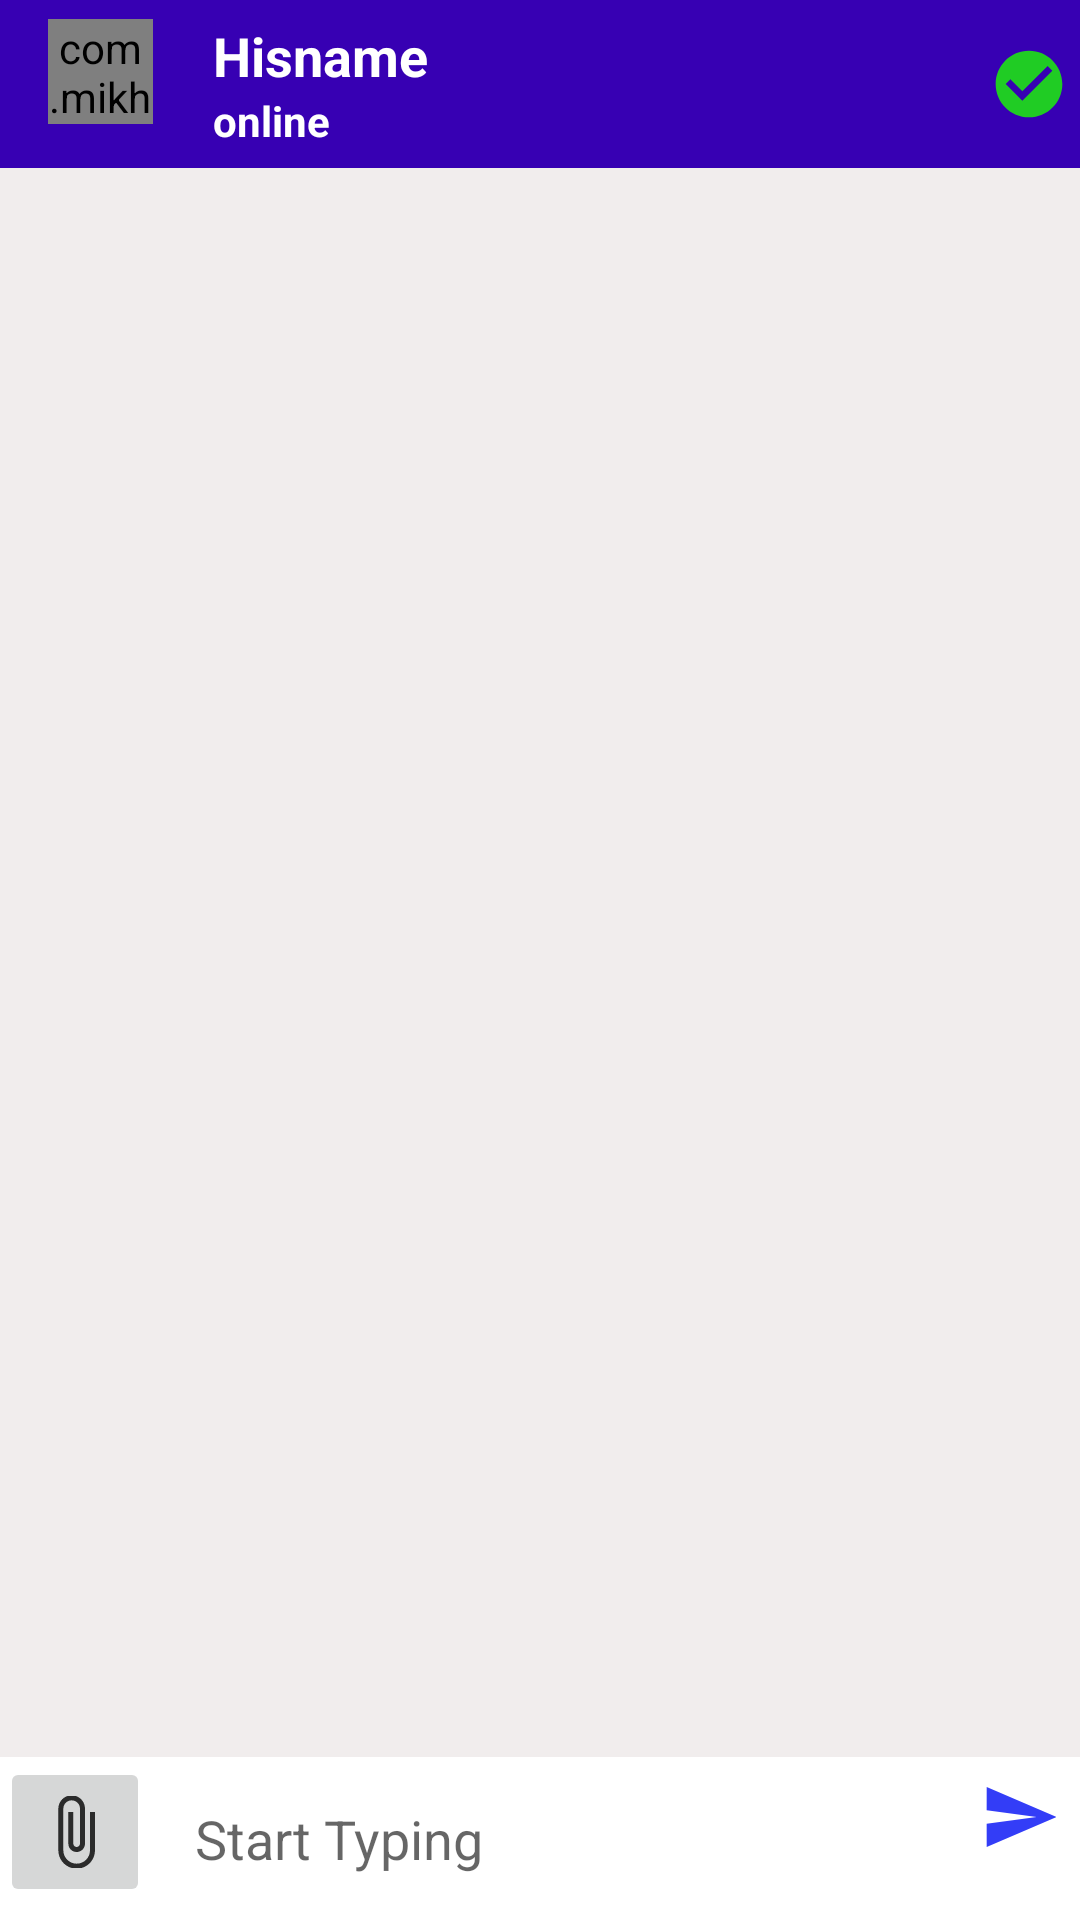

Locate icon controls on the screen. Image size 1080px x 1920px, boxes as [x1, y1, x2, y2].
attach: [12, 1775, 138, 1889]
send: [986, 1787, 1056, 1847]
